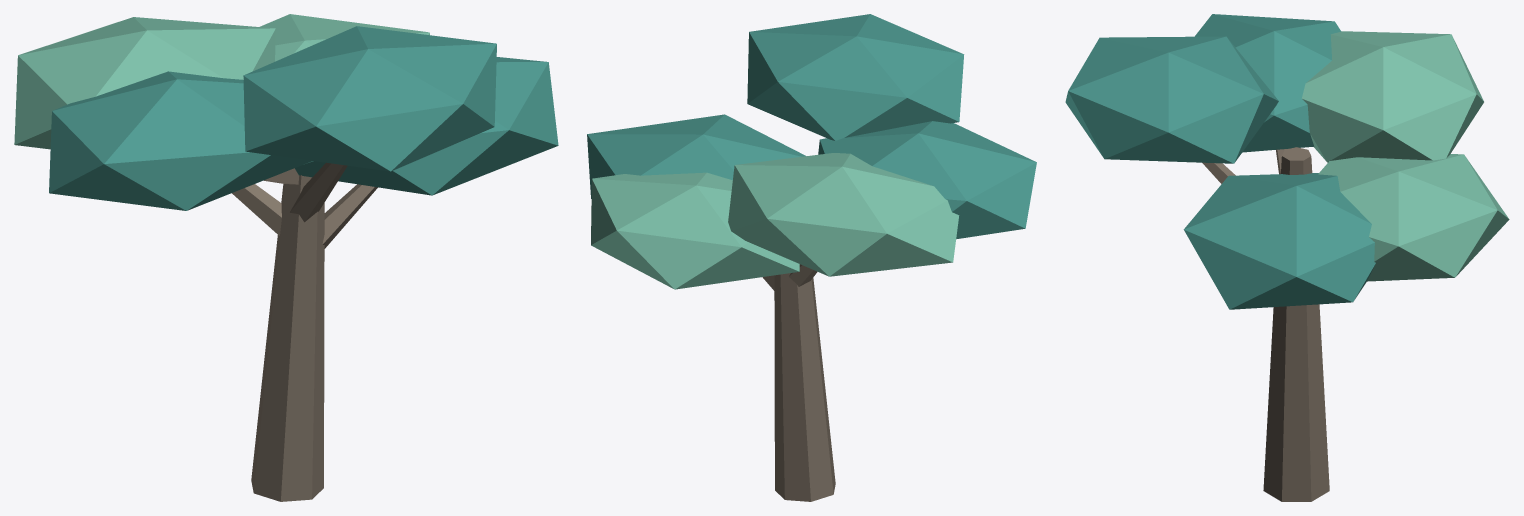
Rendered from SM_RUI_NAT_001_LuminousTree.glb.
3 views of the same model, side by side, from view 1: azimuth 30°, elevation 25°; view 2: azimuth 150°, elevation 25°; view 3: azimuth 270°, elevation 25° (orthographic). The views are drawn at different scales.
Visible parts, largest first — view 1: SM_RUI_NAT_001_LuminousTree; view 2: SM_RUI_NAT_001_LuminousTree; view 3: SM_RUI_NAT_001_LuminousTree.
Boxes of the visible parts, box(x1,y1,x2,y2) form: SM_RUI_NAT_001_LuminousTree: box(14, 14, 558, 501); SM_RUI_NAT_001_LuminousTree: box(587, 14, 1036, 501); SM_RUI_NAT_001_LuminousTree: box(1065, 14, 1509, 501).
Bounding box in the file's own units: 2.82 × 2.58 × 2.35.
